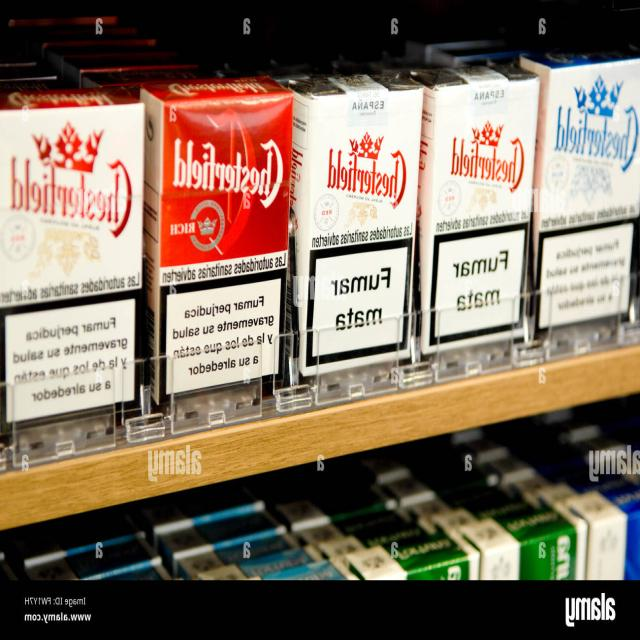chesterfield: (138, 64, 295, 397), (280, 51, 424, 391), (0, 91, 142, 432), (409, 49, 536, 349), (518, 41, 639, 349)
